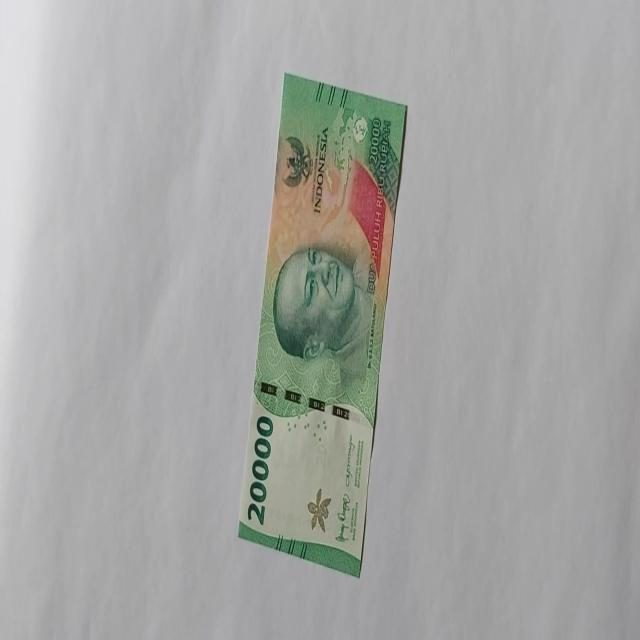dua puluh ribu rupiah: (236, 71, 408, 578), (272, 238, 376, 382)
